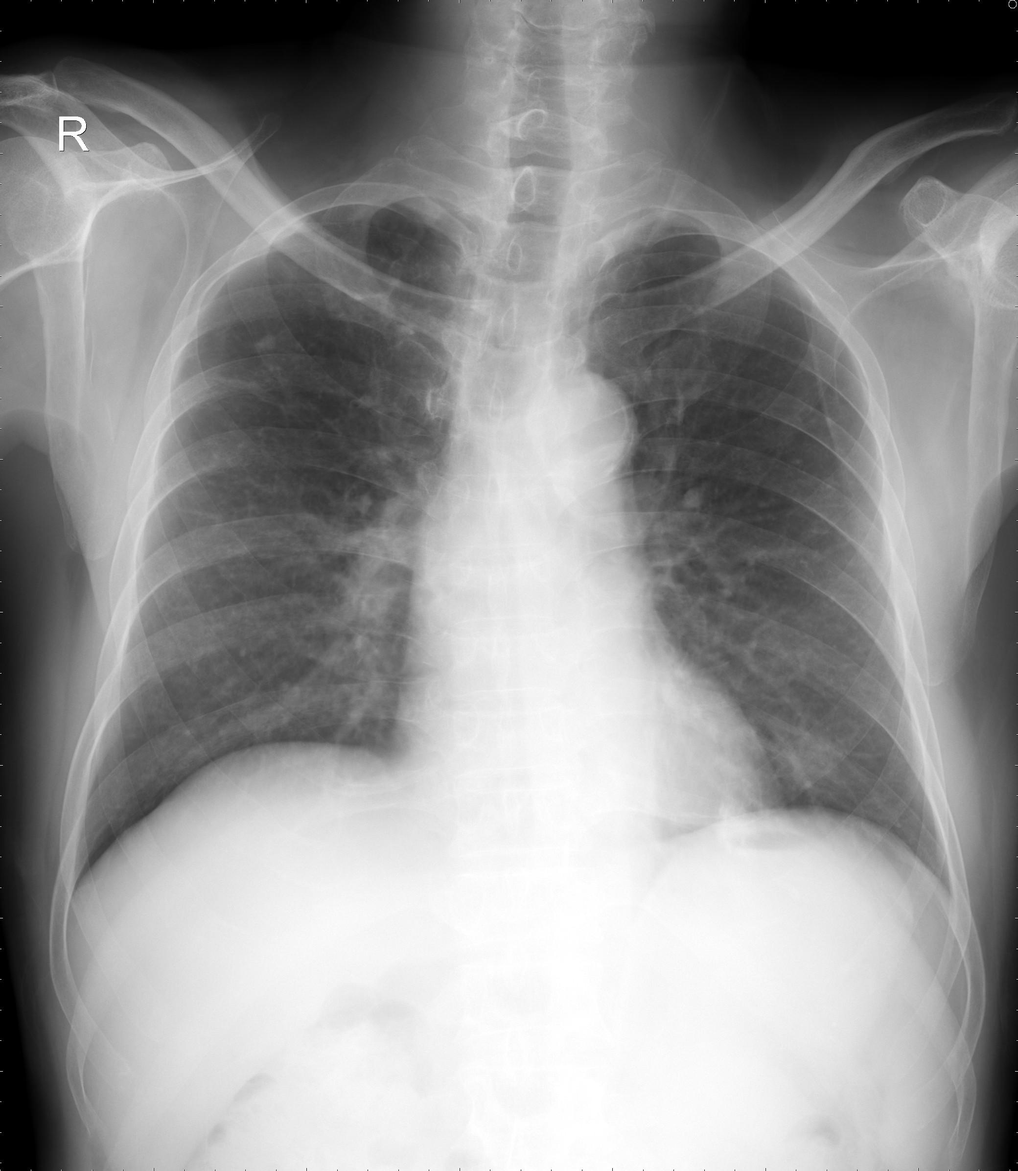Pulmonary fibrosis: (185, 332, 290, 409)
